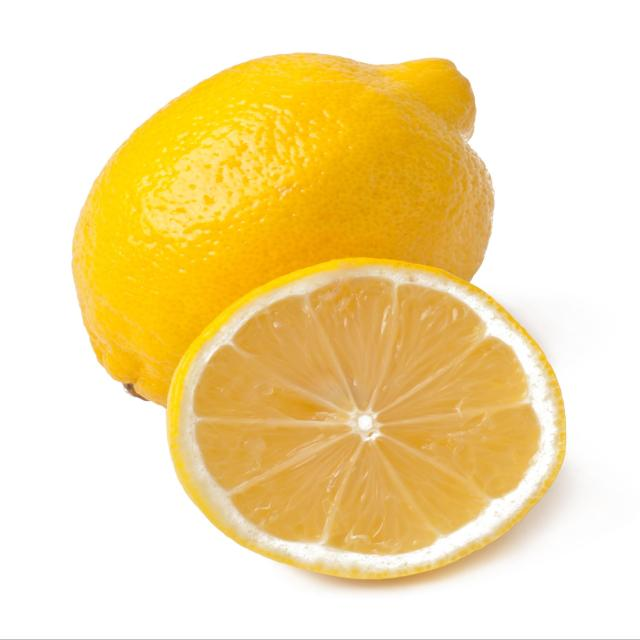lemon: (64, 44, 504, 413), (159, 252, 573, 588)
